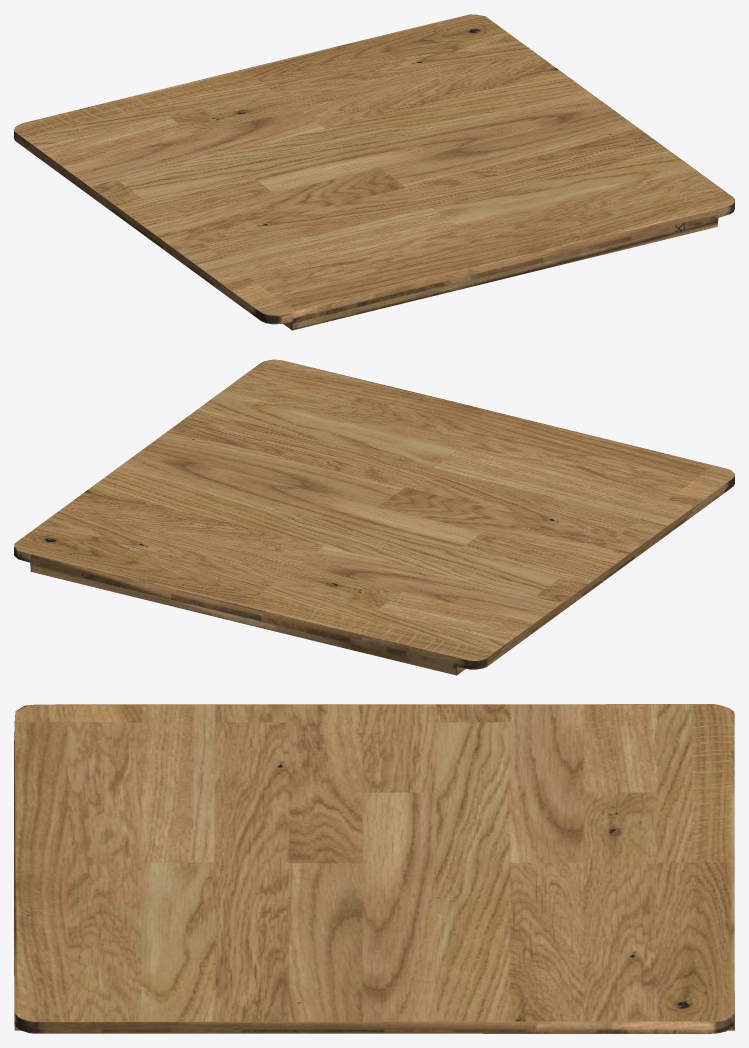
File: norrsjon_deska_do_krojenia_40339711.glb
3 views of the same model, one above another, from view 1: azimuth 30°, elevation 25°; view 2: azimuth 150°, elevation 25°; view 3: azimuth 270°, elevation 25° (orthographic). The views are drawn at different scales.
Visible parts, largest first — view 1: norrsjon_deska_do_krojenia_40339711; view 2: norrsjon_deska_do_krojenia_40339711; view 3: norrsjon_deska_do_krojenia_40339711.
Boxes of the visible parts, box(x1,y1,x2,y2) form: norrsjon_deska_do_krojenia_40339711: box(14, 14, 734, 330); norrsjon_deska_do_krojenia_40339711: box(14, 359, 734, 675); norrsjon_deska_do_krojenia_40339711: box(14, 704, 734, 1033).
Size of the model in its own units: 0.4384 by 0.0164 by 0.4204.
Materials: 2 (2 with a texture image).
